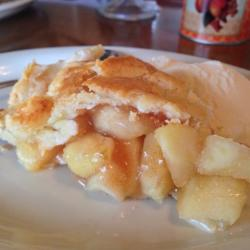apple_pie: (7, 49, 248, 223)
